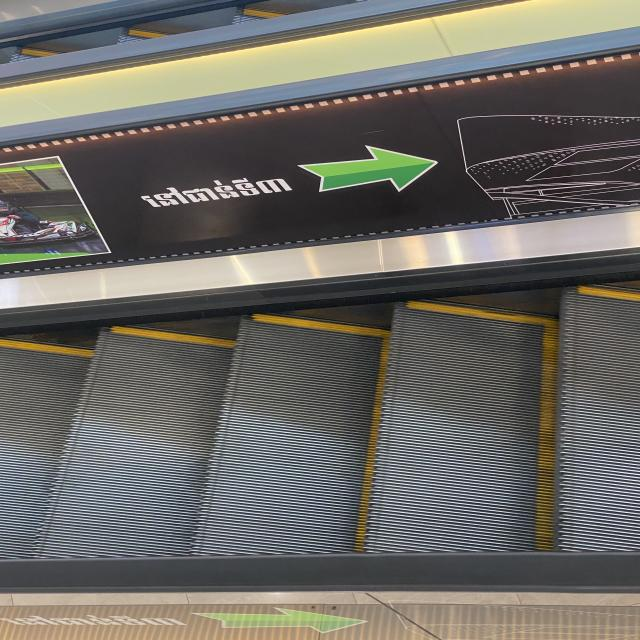Yolov11_80vkh: (132, 167, 299, 213)
